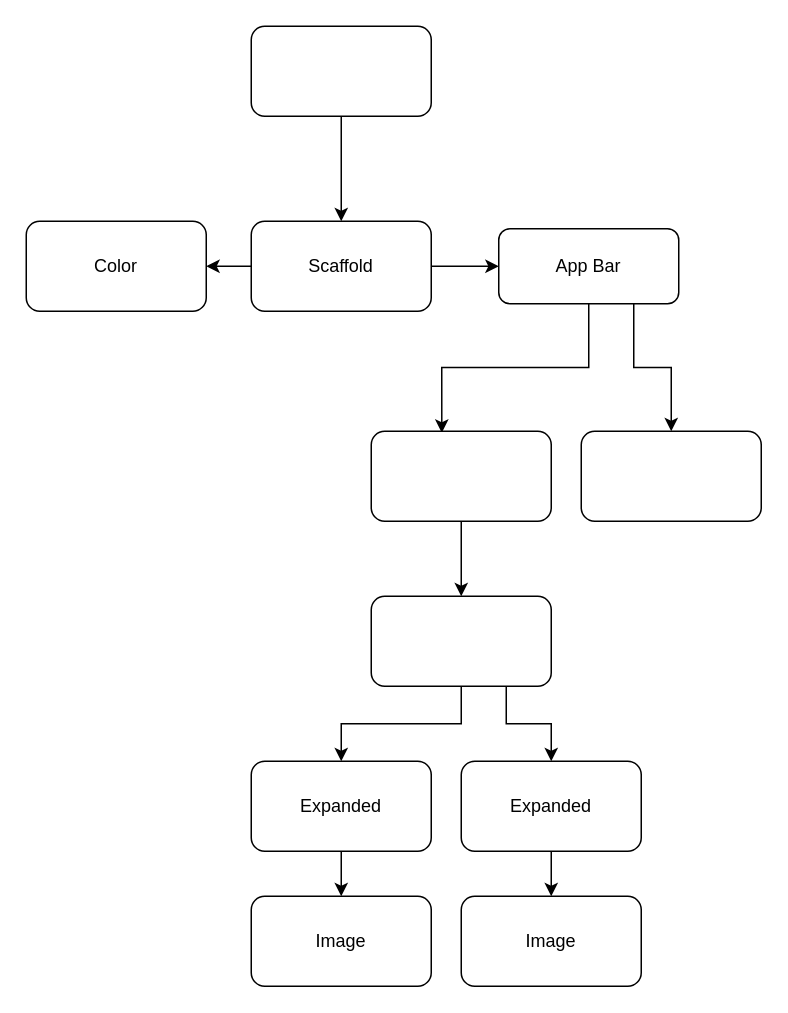
Image size: 788x1013. Some labels were removed from this diagram. Each missing label, with the centre of its shape:
Center: point (460, 475)
Material App: point (340, 70)
Row: point (460, 640)
Text: point (670, 475)
